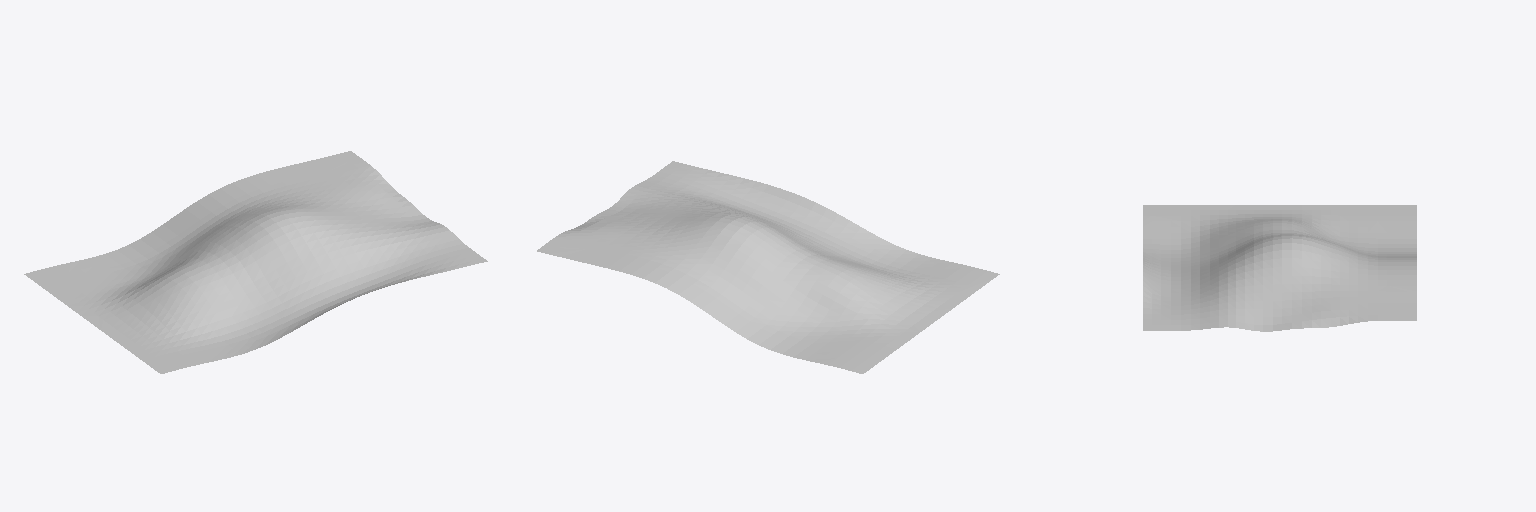
File: energy_blob.obj
3 renders of one model, left to right at view 1: azimuth 30°, elevation 25°; view 2: azimuth 150°, elevation 25°; view 3: azimuth 270°, elevation 25°, orthographic.
Size of the model in its own units: 69 by 11.65 by 50.09.